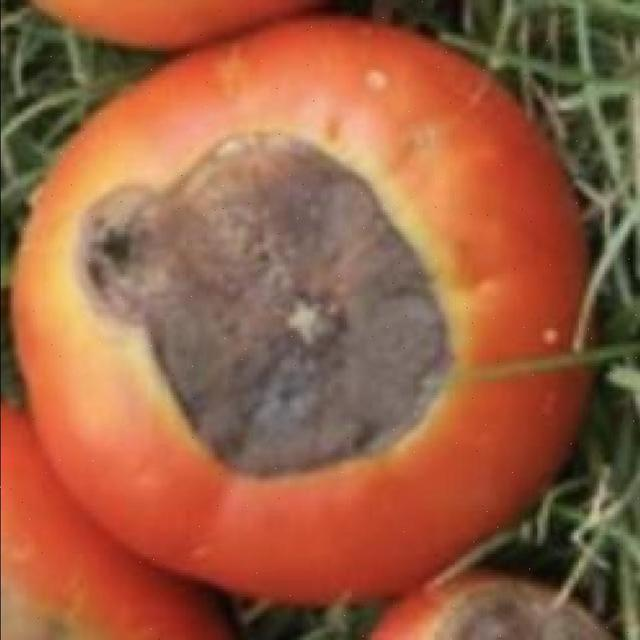Blossom End Rot Fruit: (128, 27, 340, 413)
